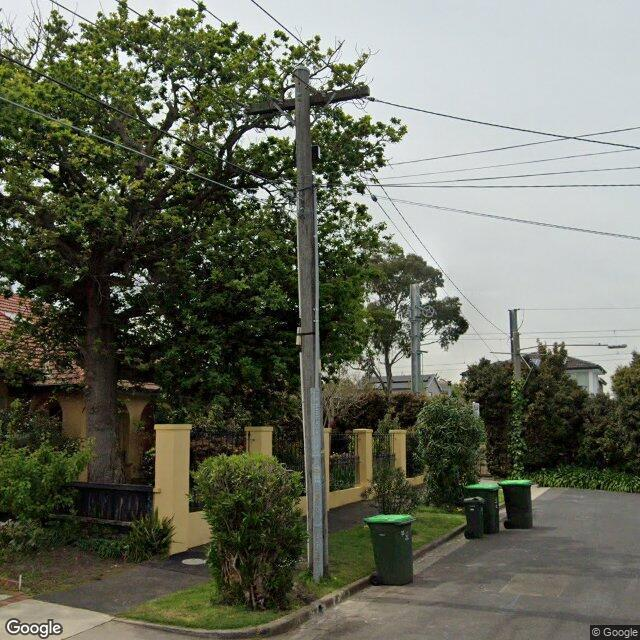crossarm: (242, 84, 372, 118)
streetlight: (520, 343, 628, 351)
timber-pole: (291, 67, 329, 582), (509, 308, 522, 379)
